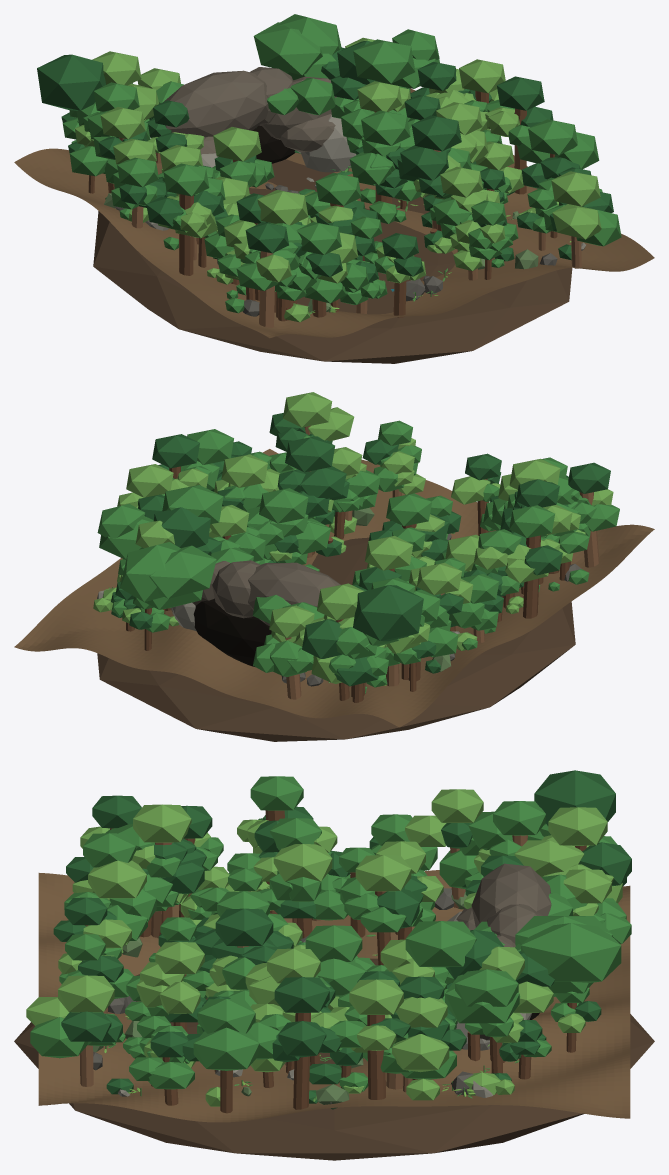
The model's file is cave.glb.
3 renders of one model, top to bottom at view 1: azimuth 30°, elevation 25°; view 2: azimuth 150°, elevation 25°; view 3: azimuth 270°, elevation 25°, orthographic. The views are drawn at different scales.
Parts seen in each view (by area): view 1: Addys_Cave_Floating_Forest_Base, Addys_Cave_Forest_Terrain, Addys_Cave_Roof_01, Addys_Cave_Back_Canopy_11, Addys_Cave_Back_Canopy_02, Addys_Cave_Back_Canopy_09, Addys_Cave_Side_02, Addys_Cave_Tree_062_Top, Addys_Cave_Tree_079_Top, Addys_Cave_Tree_030_Top, Addys_Cave_Tree_084_Top, Addys_Cave_Tree_060_Top (+60 smaller); view 2: Addys_Cave_Forest_Terrain, Addys_Cave_Floating_Forest_Base, Addys_Cave_Back_Canopy_11, Addys_Cave_Deep_Interior, Addys_Cave_Roof_01, Addys_Cave_Back_Canopy_02, Addys_Cave_Back_Canopy_03, Addys_Cave_Roof_02, Addys_Cave_Back_Canopy_00, Addys_Cave_Back_Canopy_09, Addys_Cave_Tree_079_Top, Addys_Cave_Tree_084_Top (+49 smaller); view 3: Addys_Cave_Forest_Terrain, Addys_Cave_Floating_Forest_Base, Addys_Cave_Back_Canopy_03, Addys_Cave_Roof_01, Addys_Cave_Back_Canopy_11, Addys_Cave_Back_Canopy_09, Addys_Cave_Tree_030_Leaf_00, Addys_Cave_Tree_065_Top, Addys_Cave_Tree_062_Top, Addys_Cave_Back_Canopy_10, Addys_Cave_Tree_079_Top, Addys_Cave_Tree_006_Top (+76 smaller).
Boxes of the visible parts, box(x1,y1,x2,y2) form: Addys_Cave_Floating_Forest_Base: box(93, 189, 572, 363); Addys_Cave_Forest_Terrain: box(14, 88, 654, 338); Addys_Cave_Roof_01: box(164, 70, 268, 137); Addys_Cave_Back_Canopy_11: box(37, 54, 105, 110); Addys_Cave_Back_Canopy_02: box(253, 22, 322, 75); Addys_Cave_Back_Canopy_09: box(353, 39, 415, 83); Addys_Cave_Side_02: box(300, 115, 356, 172); Addys_Cave_Tree_062_Top: box(257, 190, 308, 225); Addys_Cave_Tree_079_Top: box(411, 115, 461, 151); Addys_Cave_Tree_030_Top: box(528, 119, 577, 155); Addys_Cave_Tree_084_Top: box(551, 171, 600, 206); Addys_Cave_Tree_060_Top: box(361, 110, 410, 145); Addys_Cave_Forest_Terrain: box(14, 449, 654, 727); Addys_Cave_Floating_Forest_Base: box(97, 537, 575, 741); Addys_Cave_Back_Canopy_11: box(353, 585, 423, 641); Addys_Cave_Deep_Interior: box(193, 598, 271, 666); Addys_Cave_Roof_01: box(248, 562, 340, 625); Addys_Cave_Back_Canopy_02: box(149, 545, 216, 598); Addys_Cave_Back_Canopy_03: box(120, 542, 180, 601); Addys_Cave_Roof_02: box(212, 560, 260, 618); Addys_Cave_Back_Canopy_00: box(153, 507, 210, 548); Addys_Cave_Back_Canopy_09: box(162, 485, 223, 524); Addys_Cave_Tree_079_Top: box(285, 436, 334, 472); Addys_Cave_Tree_084_Top: box(283, 392, 332, 427); Addys_Cave_Forest_Terrain: box(38, 870, 630, 1122); Addys_Cave_Floating_Forest_Base: box(14, 958, 654, 1160); Addys_Cave_Back_Canopy_03: box(521, 923, 621, 982); Addys_Cave_Roof_01: box(471, 863, 551, 927); Addys_Cave_Back_Canopy_11: box(534, 770, 615, 825); Addys_Cave_Back_Canopy_09: box(405, 921, 476, 967); Addys_Cave_Tree_030_Leaf_00: box(193, 1027, 259, 1070); Addys_Cave_Tree_065_Top: box(548, 807, 607, 845); Addys_Cave_Tree_062_Top: box(133, 804, 191, 842); Addys_Cave_Back_Canopy_10: box(455, 969, 518, 1006); Addys_Cave_Tree_079_Top: box(215, 908, 273, 946); Addys_Cave_Tree_006_Top: box(88, 860, 146, 898).
Size of the model in its own units: 16.09 by 6.93 by 18.45.
